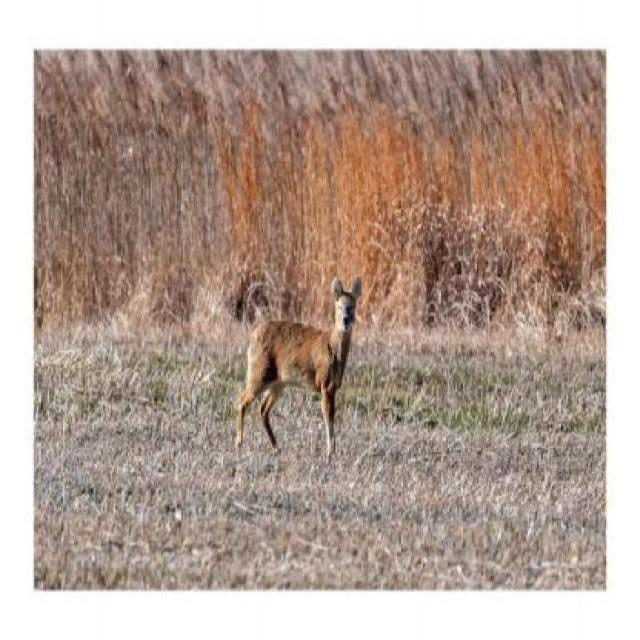deer: (224, 272, 368, 463)
